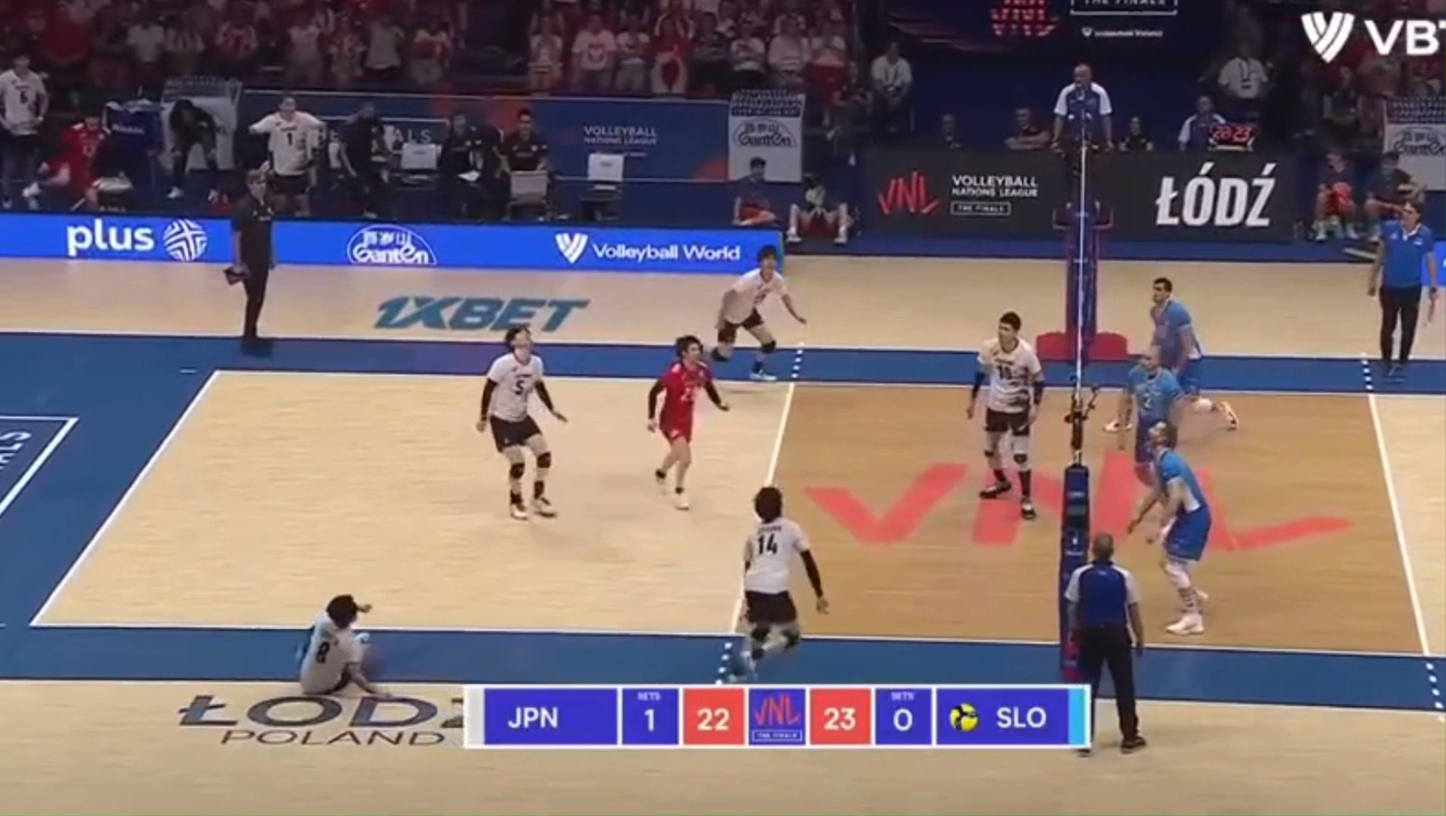player: (1129, 422, 1213, 635), (1151, 277, 1237, 430), (1121, 351, 1183, 483)
player 1: (728, 486, 827, 681), (477, 326, 566, 520), (966, 312, 1043, 519), (647, 335, 729, 508), (709, 246, 807, 381), (298, 595, 378, 695)
referee: (1064, 533, 1147, 752), (1368, 202, 1439, 375), (1052, 63, 1113, 230), (224, 168, 275, 351)
